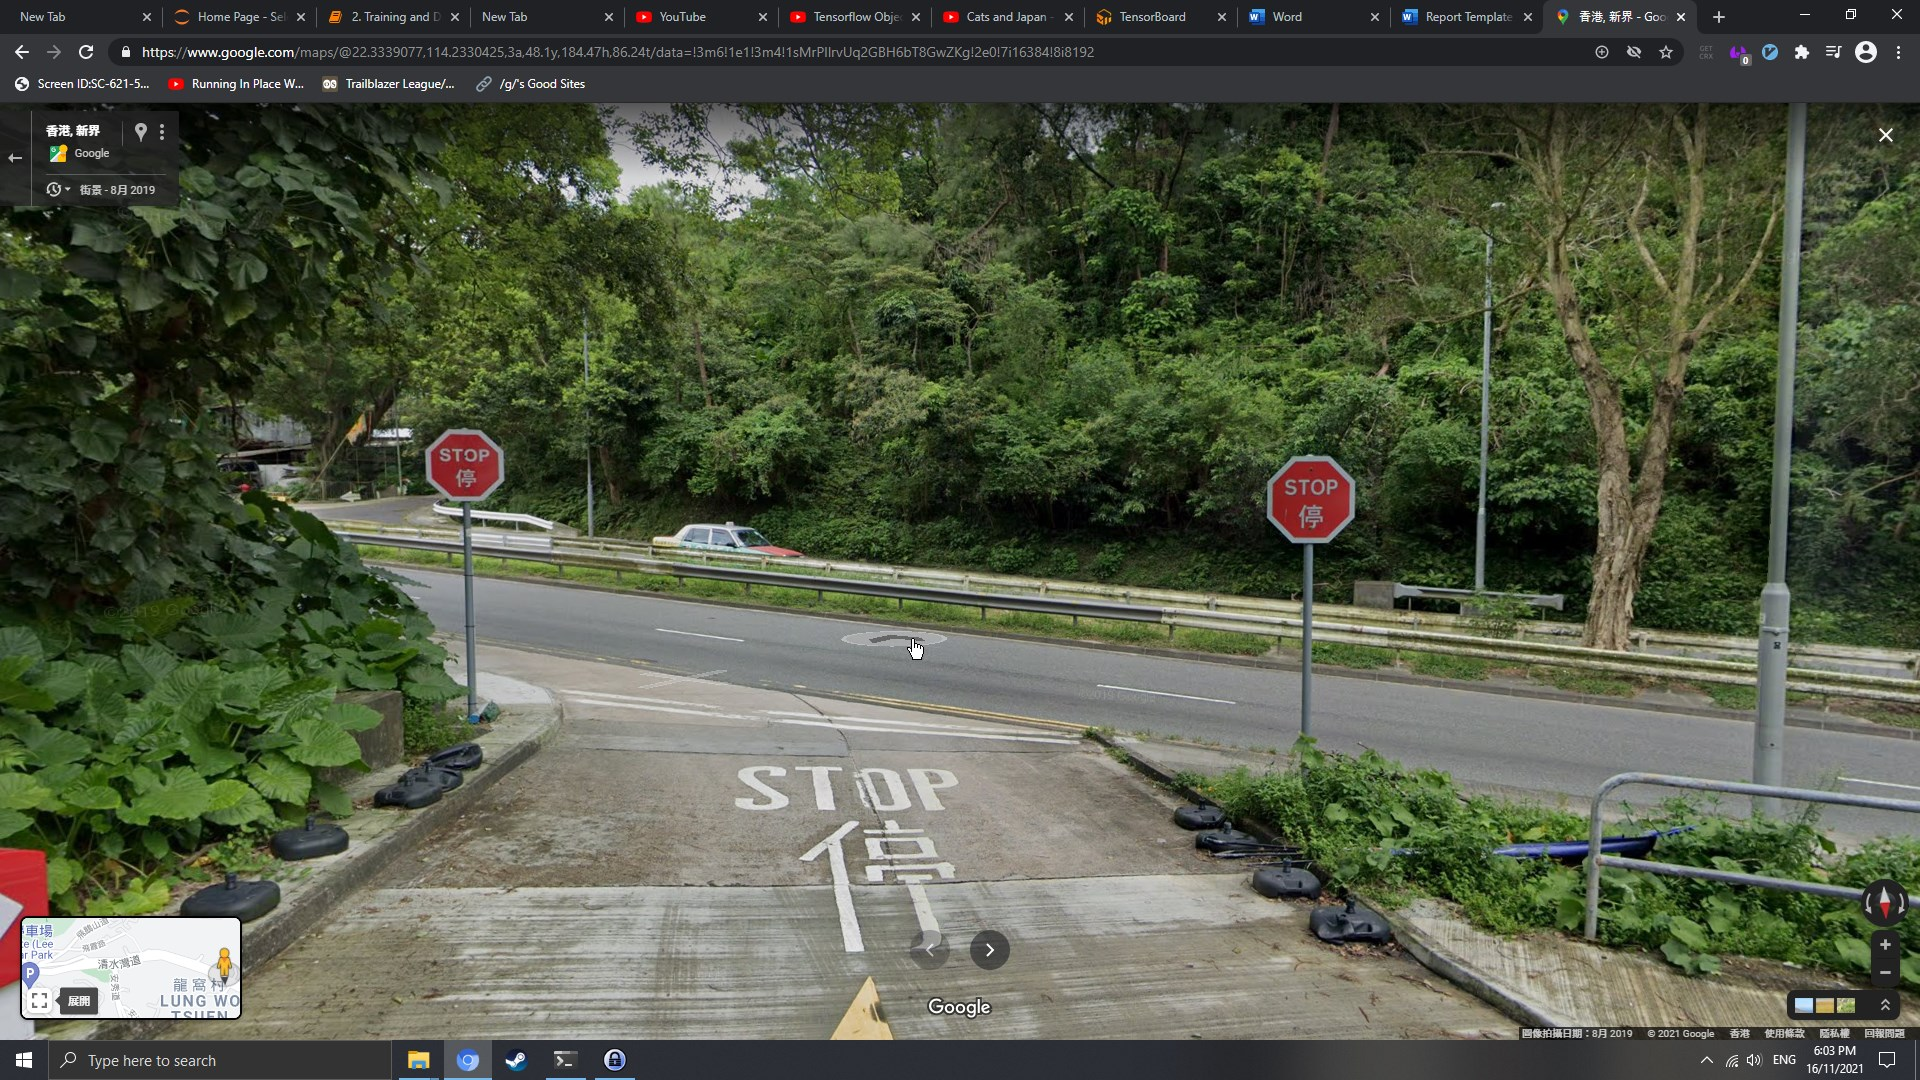Stop: (1267, 456, 1356, 545), (425, 430, 504, 501)
